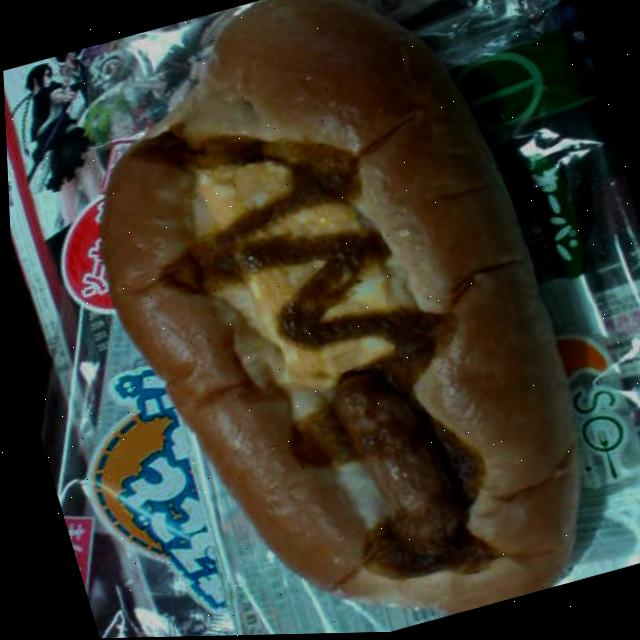三明治: (29, 0, 619, 639)
